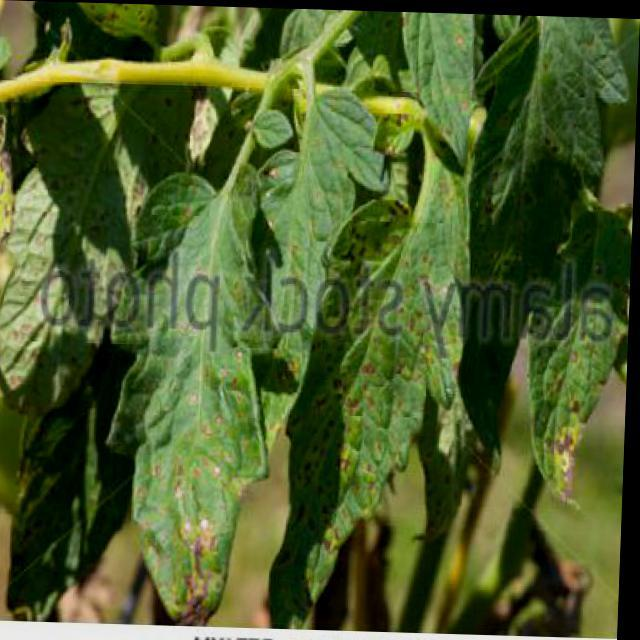Tomato Septoria spot leaf: (276, 118, 488, 633), (95, 146, 278, 633), (0, 56, 204, 417), (248, 75, 376, 398), (525, 183, 634, 522)
